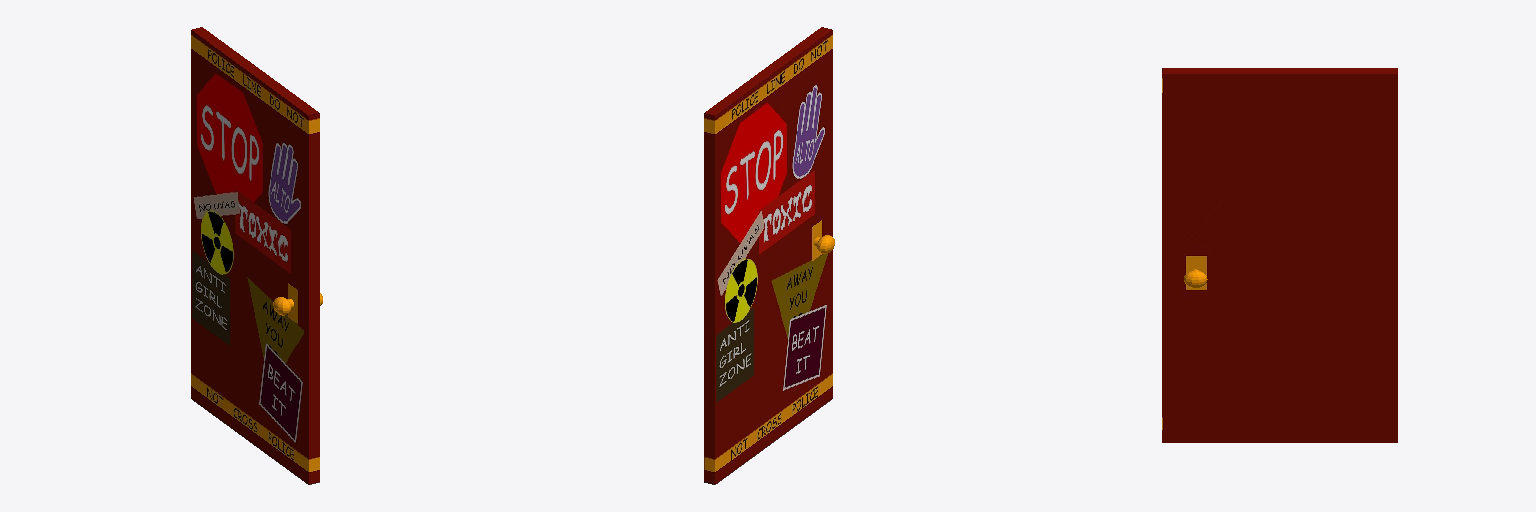
3 views of the same model, side by side, from view 1: azimuth 30°, elevation 25°; view 2: azimuth 150°, elevation 25°; view 3: azimuth 270°, elevation 25° (orthographic).
Visible parts, largest first — view 1: puerta_Cube.006; view 2: puerta_Cube.006; view 3: puerta_Cube.006.
Boxes of the visible parts, box(x1,y1,x2,y2) form: puerta_Cube.006: box(191, 27, 322, 484); puerta_Cube.006: box(704, 27, 834, 484); puerta_Cube.006: box(1162, 68, 1397, 442).
Size of the model in its own units: 0.7051 by 5.49 by 3.17.
Materials: 1 (1 with a texture image).